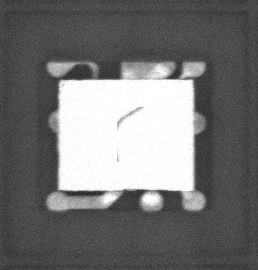DIE_INK: (114, 104, 148, 164)
